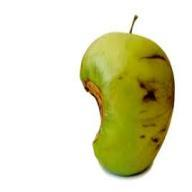apple: (78, 31, 178, 180)
